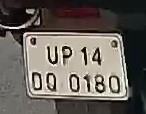0: (107, 75, 123, 96), (67, 71, 82, 93)
1: (78, 44, 92, 68), (83, 73, 92, 94)
4: (90, 46, 104, 68)
8: (93, 72, 107, 94)
D: (30, 70, 43, 92)
O: (45, 69, 61, 95)
P: (61, 45, 73, 66)
U: (44, 41, 59, 68)
